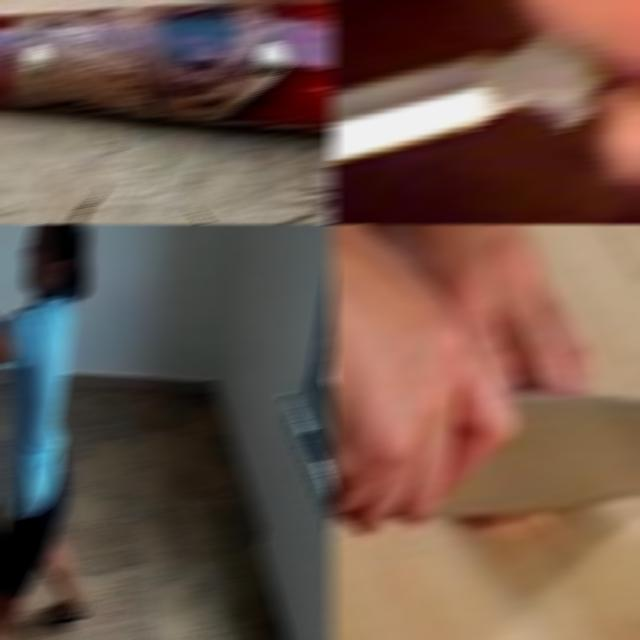Knife: (329, 387, 640, 517)
Knife_Handle: (329, 224, 640, 512), (329, 0, 640, 180)
